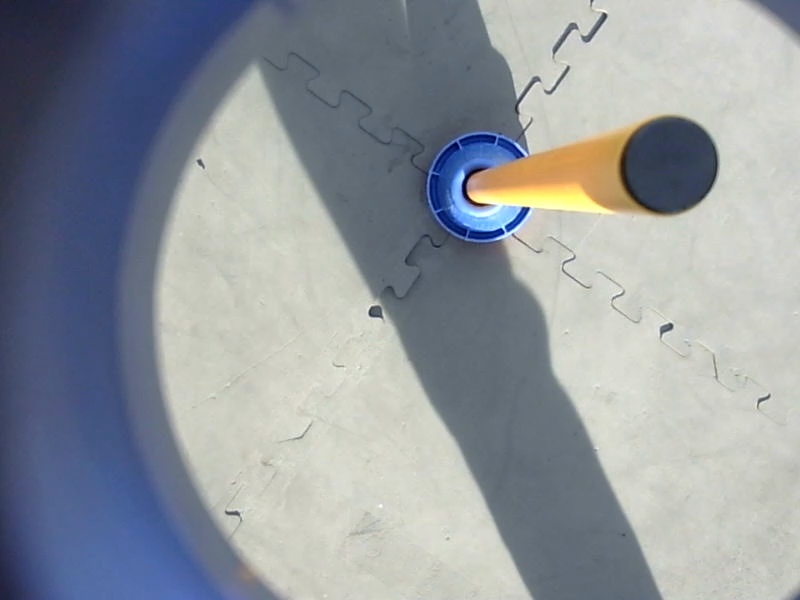tip: (609, 107, 729, 226)
